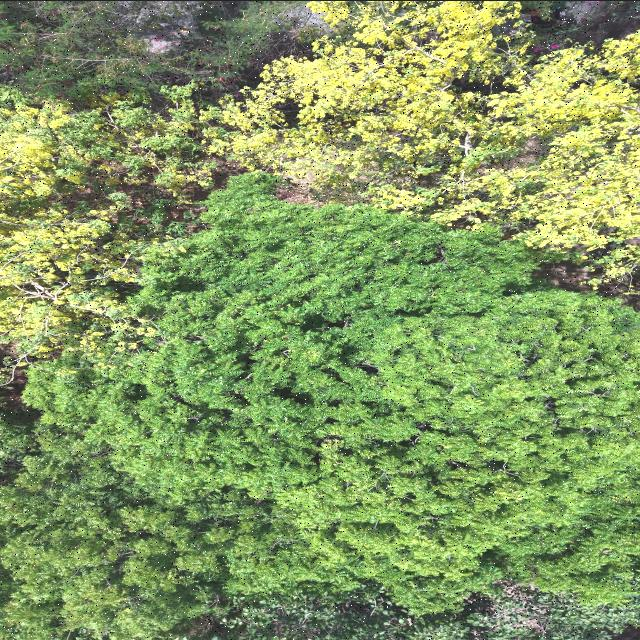VEGETATION_TREE: (0, 1, 639, 639), (2, 174, 639, 639), (2, 1, 637, 291), (206, 1, 639, 278), (0, 1, 293, 104), (175, 584, 639, 639)
